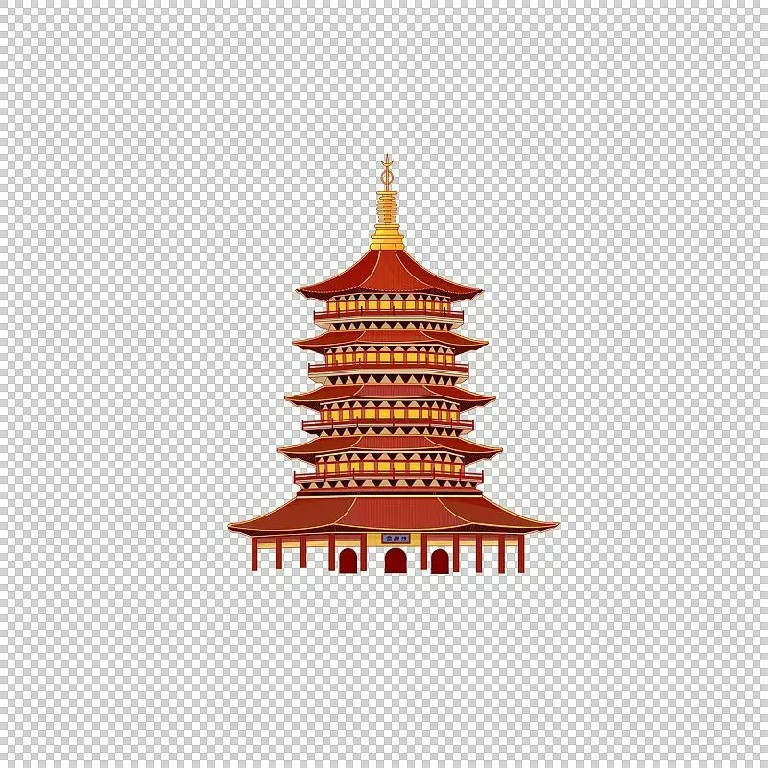Leifeng: (225, 154, 560, 574)
